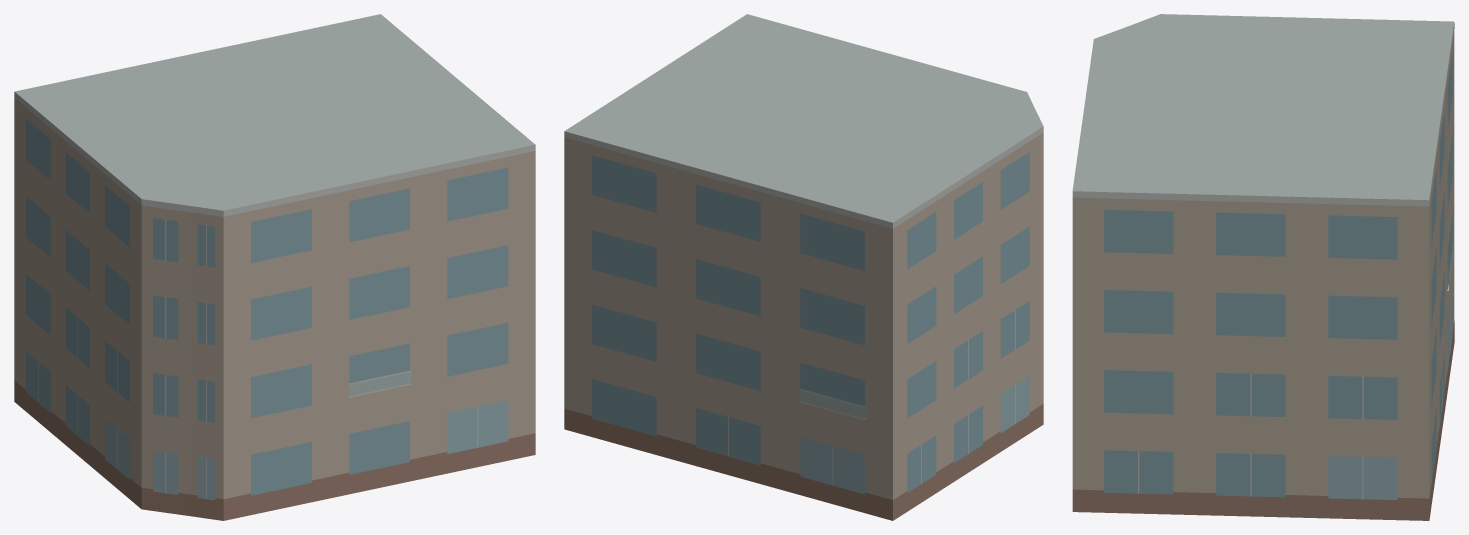
Rendered from residential-44f423f9-0a4a-49f0-9218-eacd45f9d6c4.glb.
3 views of the same model, side by side, from view 1: azimuth 30°, elevation 25°; view 2: azimuth 150°, elevation 25°; view 3: azimuth 270°, elevation 25° (orthographic). The views are drawn at different scales.
Parts seen in each view (by area): view 1: residential-44f423f9-0a4a-49f0-9218-eacd45f9d6c4.tmp; view 2: residential-44f423f9-0a4a-49f0-9218-eacd45f9d6c4.tmp; view 3: residential-44f423f9-0a4a-49f0-9218-eacd45f9d6c4.tmp.
Boxes of the visible parts, x1,y1,x2,y2 form: residential-44f423f9-0a4a-49f0-9218-eacd45f9d6c4.tmp: (14, 14, 535, 520); residential-44f423f9-0a4a-49f0-9218-eacd45f9d6c4.tmp: (564, 14, 1043, 520); residential-44f423f9-0a4a-49f0-9218-eacd45f9d6c4.tmp: (1072, 14, 1454, 520).
Size of the model in its own units: 15.2 by 12.2 by 13.18.
